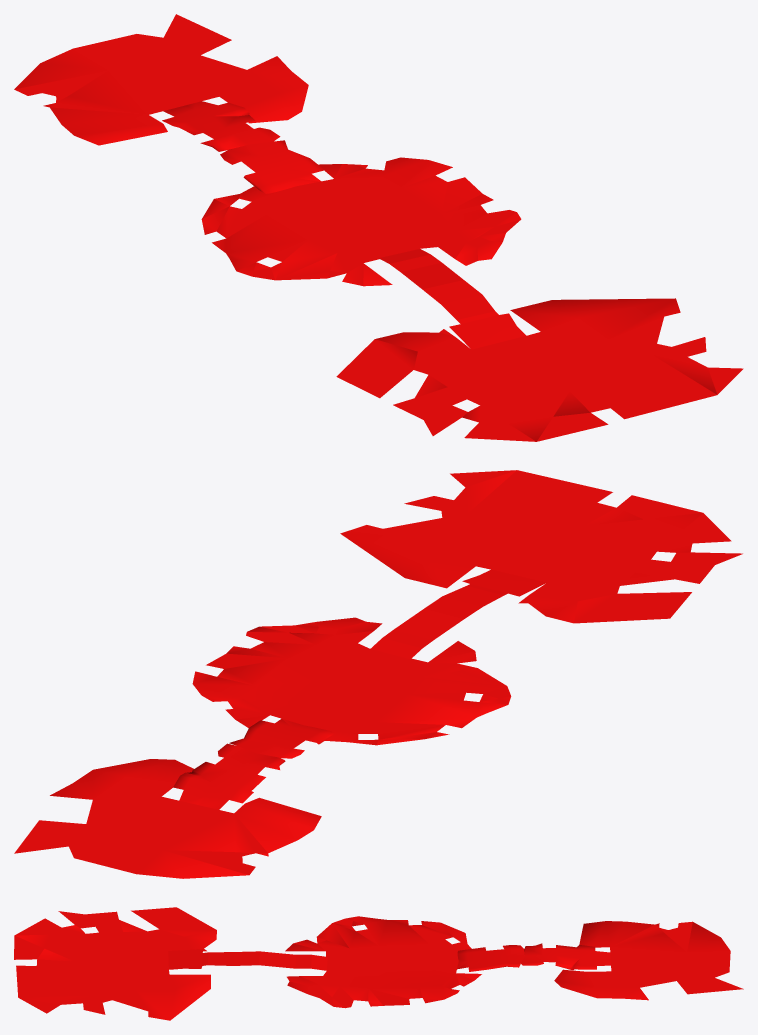
The model's file is navi.FBX.
3 views of the same model, one above another, from view 1: azimuth 30°, elevation 25°; view 2: azimuth 150°, elevation 25°; view 3: azimuth 270°, elevation 25° (orthographic). The views are drawn at different scales.
Parts seen in each view (by area): view 1: map06_navi; view 2: map06_navi; view 3: map06_navi.
Part boxes in pixels (left/top/right/bottom): map06_navi: left=14, top=14, right=743, bottom=441; map06_navi: left=14, top=470, right=742, bottom=878; map06_navi: left=14, top=907, right=743, bottom=1020.
Size of the model in its own units: 22.16 by 0.797 by 60.22.
